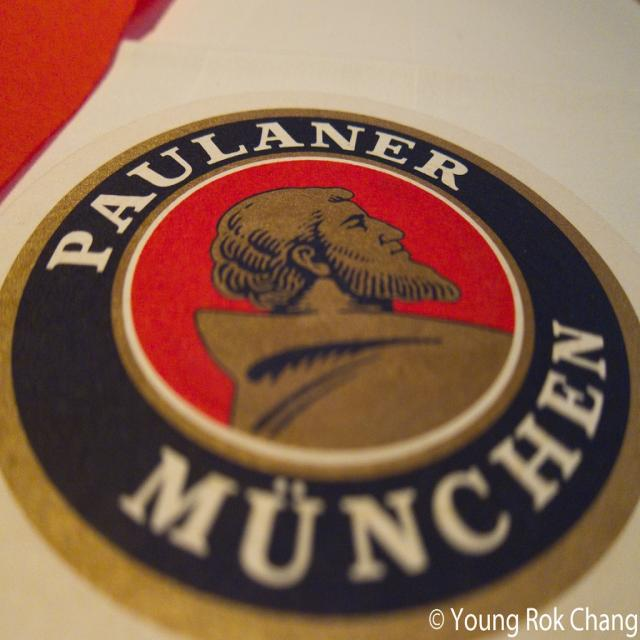paulaner: (2, 109, 640, 640)
